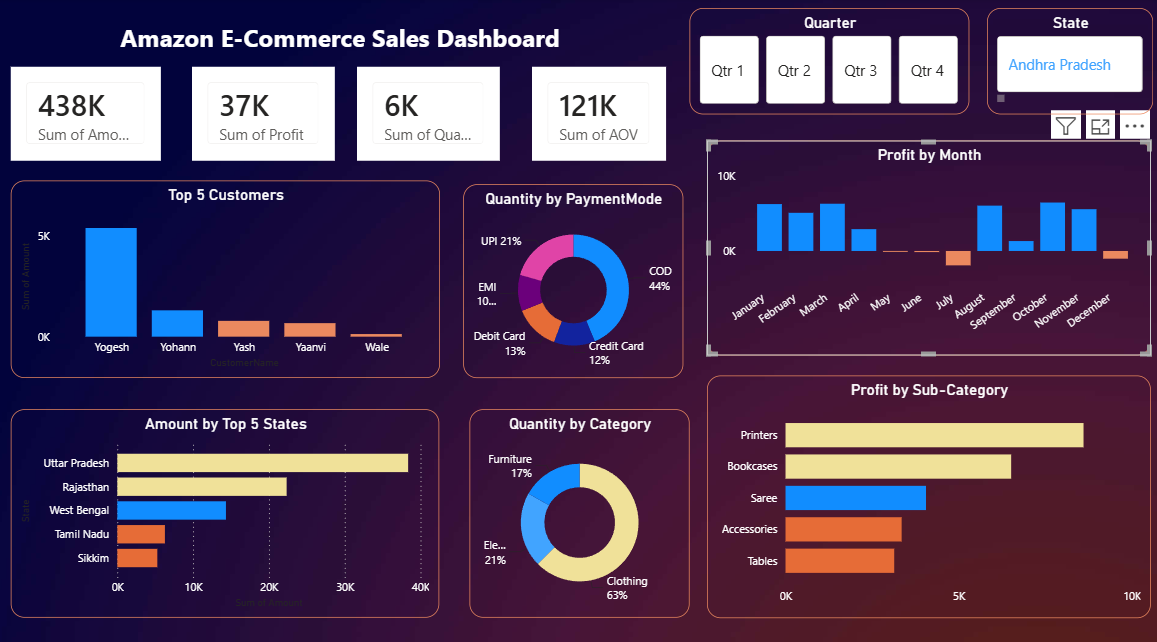

The dashboard page shown, as its layout file describes it:
{"tool":"powerbi","page":{"name":"Page 1","canvas":[1280,720],"ordinal":0},"visuals":[{"type":"textbox","box":[42.5,20.6,668.3,70],"z":0},{"type":"columnChart","title":"Profit by Month","fields":{"Category":["Orders.Order Date.Variation.Date Hierarchy.Month"],"Y":["Sum(Details.Profit)"]},"box":[779.4,156.4,487.1,236],"z":1000},{"type":"barChart","title":"Profit by Sub-Category","fields":{"Category":["Details.Sub-Category"],"Y":["Sum(Details.Profit)"]},"box":[779.4,414.4,487.1,266.2],"z":2000},{"type":"donutChart","title":"Quantity by Category","fields":{"Category":["Details.Category"],"Y":["Sum(Details.Quantity)"]},"box":[518.7,451.5,241.5,229.2],"z":3000},{"type":"donutChart","title":"Quantity by PaymentMode","fields":{"Y":["Sum(Details.Quantity)"],"Series":["Details.PaymentMode"]},"box":[511.8,204.5,241.5,212.7],"z":4000},{"type":"cardVisual","fields":{"Data":["Sum(Details.Amount)"]},"box":[15.1,75.5,164.7,102.9],"z":5000},{"type":"cardVisual","fields":{"Data":["Sum(Details.Profit)"]},"box":[214.1,75.5,156.4,102.9],"z":6000},{"type":"cardVisual","fields":{"Data":["Sum(Details.Quantity)"]},"box":[395.2,75.5,156.4,102.9],"z":7000},{"type":"cardVisual","fields":{"Data":["Sum(Details.AOV)"]},"box":[587.3,75.5,146.8,102.9],"z":9000},{"type":"columnChart","title":"Top 5 Customers","fields":{"Category":["Orders.CustomerName"],"Y":["Sum(Details.Amount)"]},"box":[15.1,200.6,471.2,217],"z":10000},{"type":"advancedSlicerVisual","fields":{"Values":["Orders.Order Date.Variation.Date Hierarchy.Quarter"]},"box":[760.2,11,307.4,116.6],"z":11000},{"type":"advancedSlicerVisual","fields":{"Values":["Orders.State"]},"box":[1086.8,11,182.5,116.6],"z":12000},{"type":"barChart","title":"Amount by Top 5 States","fields":{"Category":["Orders.State"],"Y":["Sum(Details.Amount)"]},"box":[15.1,451.5,470.7,229.2],"z":12001}]}

Visuals, with their boxes in screenshot pixels (x1, y1, x2, y2), scaled from the page's 1280x720 canvas onto the 1157x642 screenshot:
textbox: 38,18,642,81
"Profit by Month" columnChart: 705,139,1145,350
"Profit by Sub-Category" barChart: 705,370,1145,607
"Quantity by Category" donutChart: 469,403,687,607
"Quantity by PaymentMode" donutChart: 463,182,681,372
cardVisual - Sum(Details.Amount): 14,67,163,159
cardVisual - Sum(Details.Profit): 194,67,335,159
cardVisual - Sum(Details.Quantity): 357,67,499,159
cardVisual - Sum(Details.AOV): 531,67,664,159
"Top 5 Customers" columnChart: 14,179,440,372
advancedSlicerVisual - Orders.Order Date.Variation.Date Hierarchy.Quarter: 687,10,965,114
advancedSlicerVisual - Orders.State: 982,10,1147,114
"Amount by Top 5 States" barChart: 14,403,439,607
